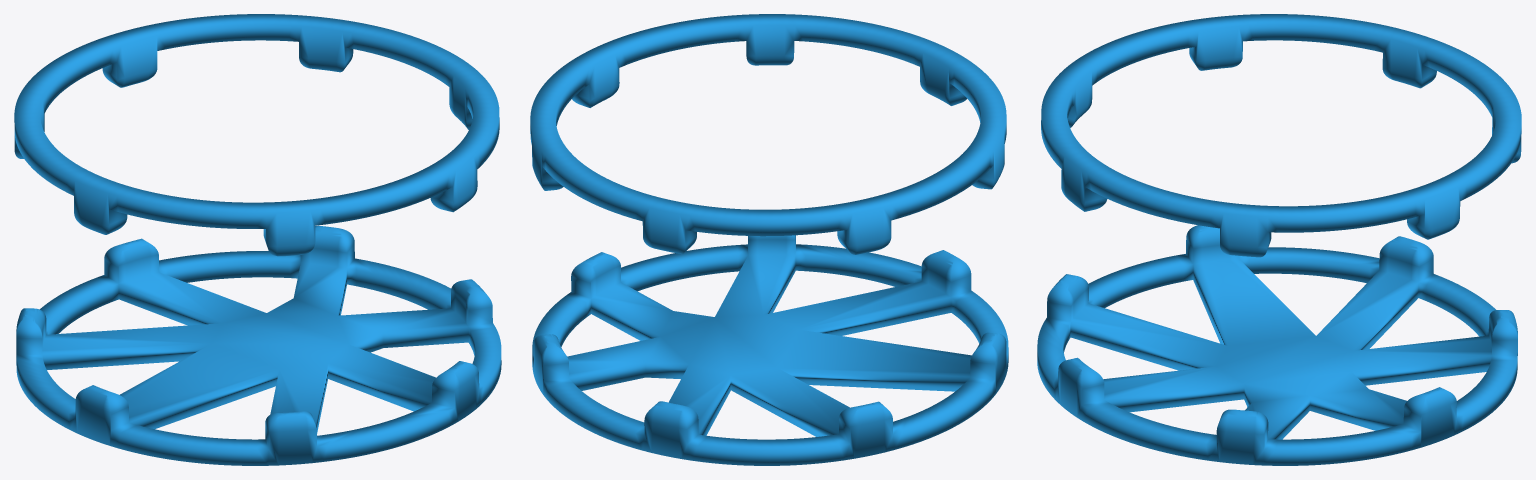
Rendered from display.glb.
3 renders of one model, left to right at view 1: azimuth 30°, elevation 25°; view 2: azimuth 150°, elevation 25°; view 3: azimuth 270°, elevation 25°, orthographic.
Visible parts, largest first — view 1: display.001; view 2: display.001; view 3: display.001.
Boxes of the visible parts, <box> form: display.001: <box>14,14,501,465</box>; display.001: <box>530,14,1008,465</box>; display.001: <box>1037,14,1521,465</box>.
Size of the model in its own units: 280 by 164 by 282.
